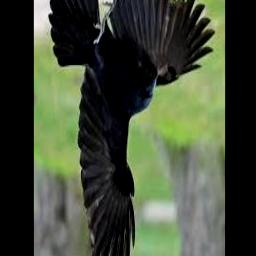Crow: (49, 0, 216, 256)
